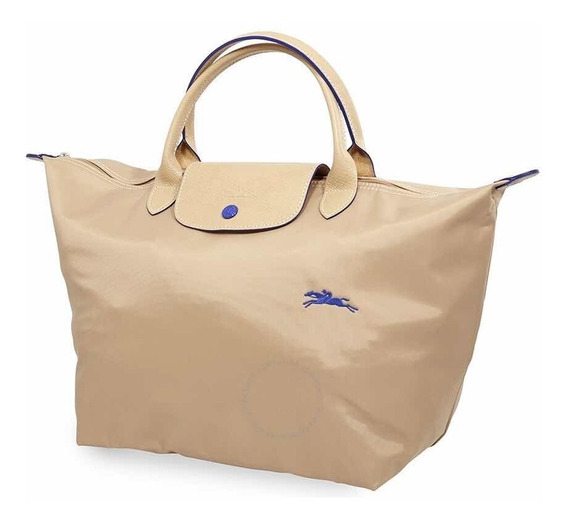cartera: (29, 30, 537, 493)
